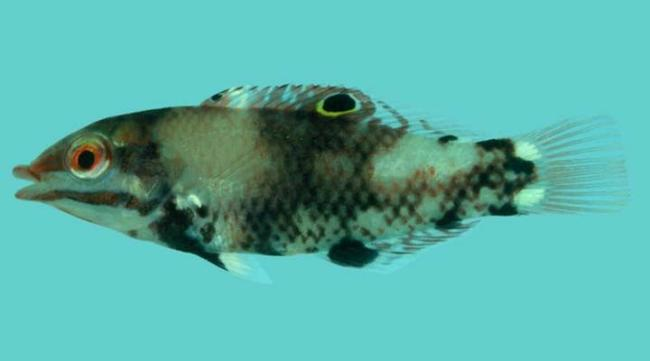fish: (11, 83, 631, 285)
